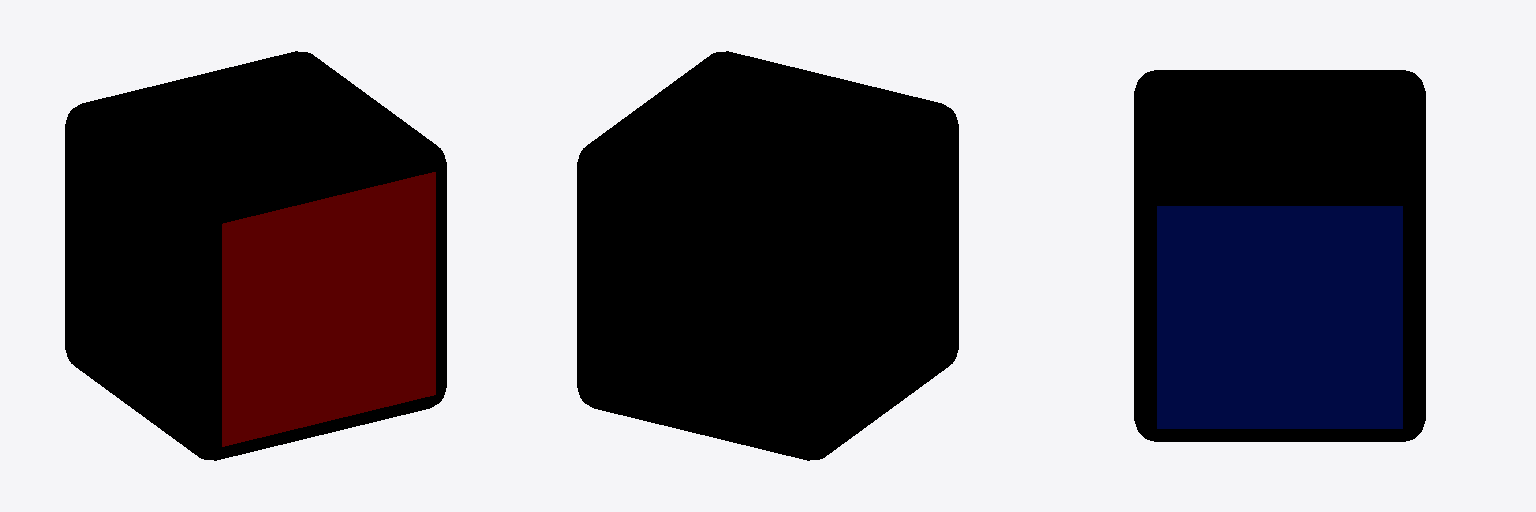
The model's file is piece_100.obj.
The picture shows the model from 3 angles: view 1: azimuth 30°, elevation 25°; view 2: azimuth 150°, elevation 25°; view 3: azimuth 270°, elevation 25°; orthographic projection.
Parts seen in each view (by area): view 1: Cube.015_Cube.016; view 2: Cube.015_Cube.016; view 3: Cube.015_Cube.016.
Boxes of the visible parts, x1=… form: Cube.015_Cube.016: x1=65, y1=51, x2=446, y2=460; Cube.015_Cube.016: x1=577, y1=51, x2=958, y2=460; Cube.015_Cube.016: x1=1134, y1=70, x2=1425, y2=441.
Size of the model in its own units: 2 by 2 by 2.